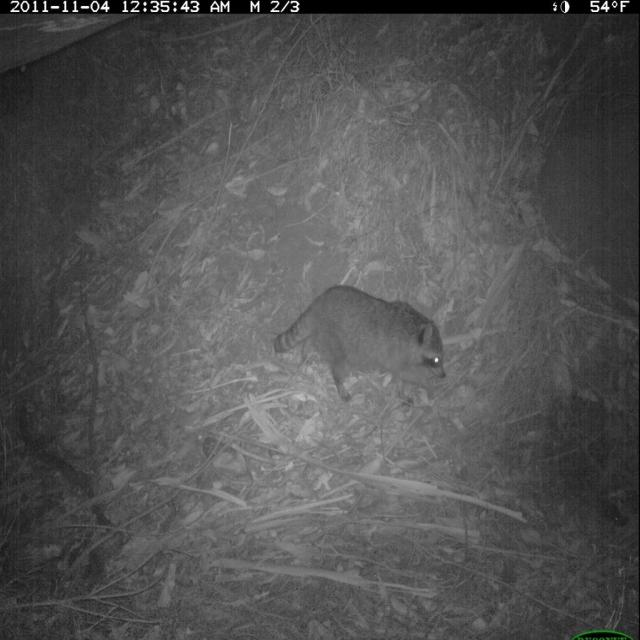raccoon: (266, 279, 452, 415)
